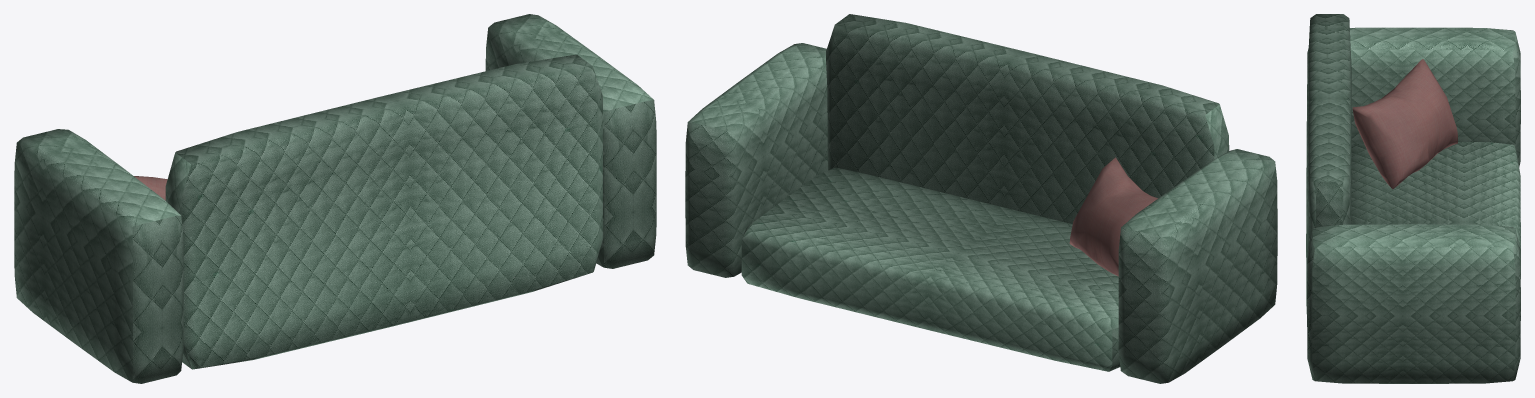
Rendered from FUR0210072.fbx.
3 renders of one model, left to right at view 1: azimuth 30°, elevation 25°; view 2: azimuth 150°, elevation 25°; view 3: azimuth 270°, elevation 25°, orthographic. The views are drawn at different scales.
Parts seen in each view (by area): view 1: smFUR0210072; view 2: smFUR0210072; view 3: smFUR0210072.
Boxes of the visible parts, box(x1,y1,x2,y2) form: smFUR0210072: box(14, 14, 656, 383); smFUR0210072: box(685, 14, 1277, 383); smFUR0210072: box(1306, 14, 1520, 383).
Size of the model in its own units: 335 by 131 by 138.
Materials: 1 (1 with a texture image).
